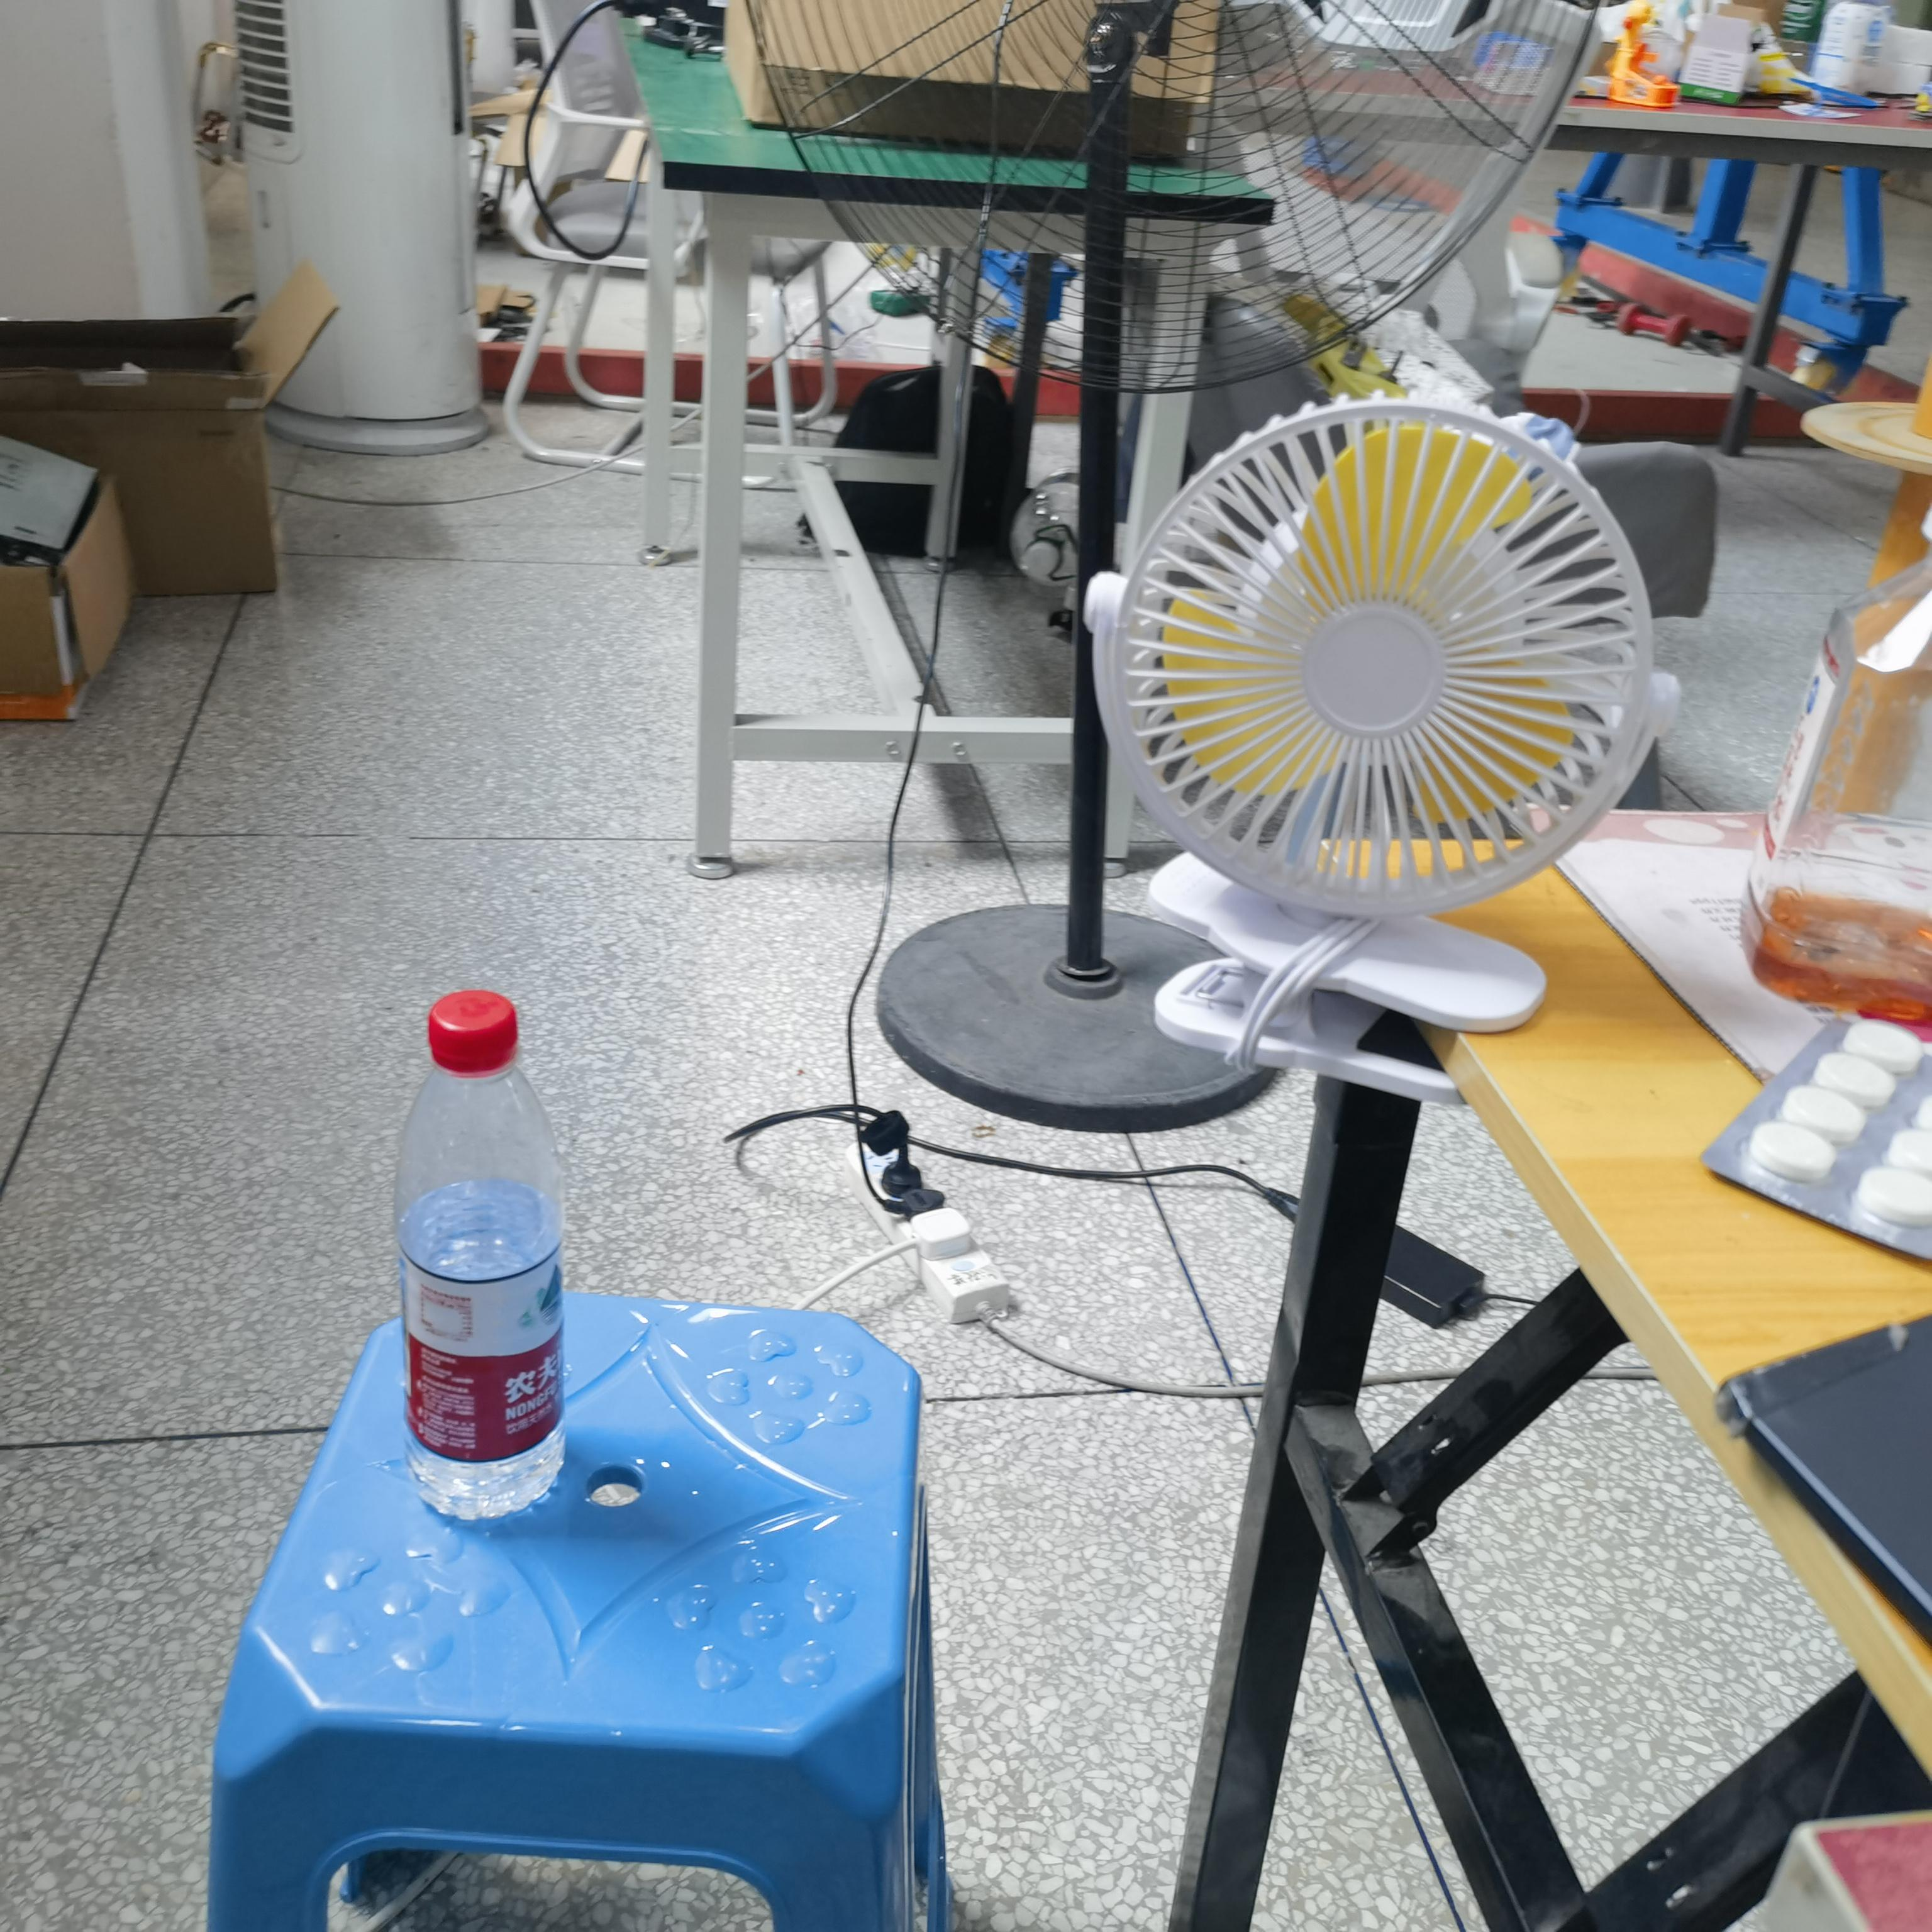bottle: (396, 991, 564, 1522)
fan: (1097, 402, 1654, 1102)
